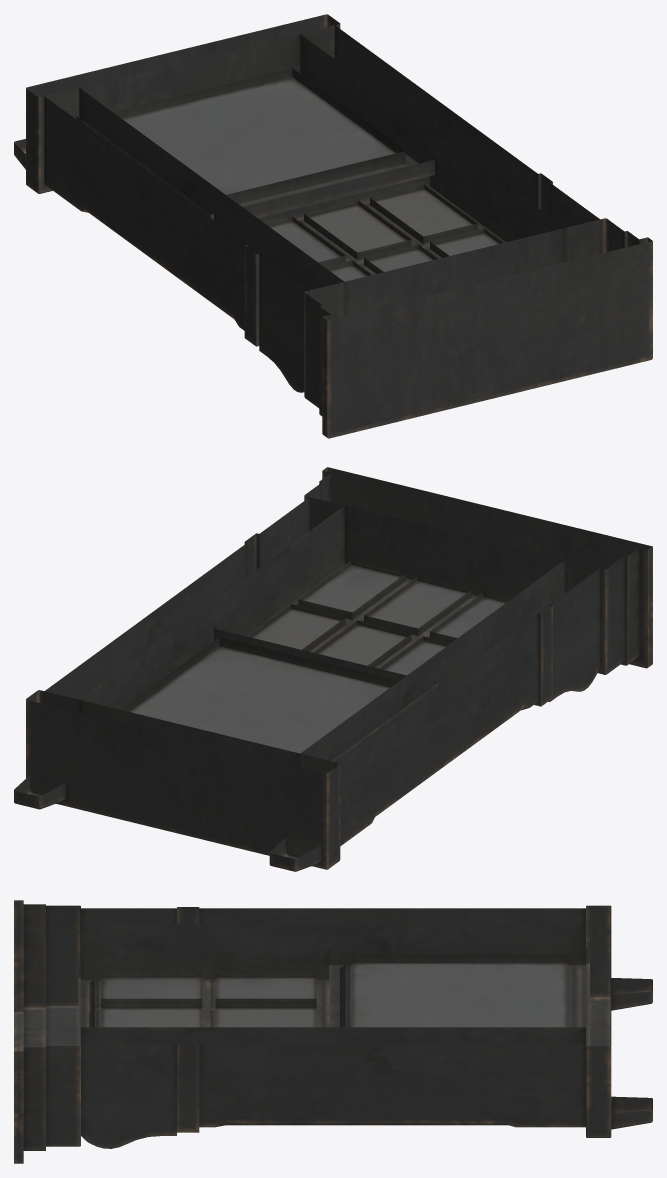
The model's file is window_centered_small_02.gltf.
3 views of the same model, one above another, from view 1: azimuth 30°, elevation 25°; view 2: azimuth 150°, elevation 25°; view 3: azimuth 270°, elevation 25° (orthographic). The views are drawn at different scales.
Visible parts, largest first — view 1: window_centered_small_02; view 2: window_centered_small_02; view 3: window_centered_small_02.
Boxes of the visible parts, <box> form: window_centered_small_02: <box>14,14,652,438</box>; window_centered_small_02: <box>14,467,652,871</box>; window_centered_small_02: <box>14,900,652,1163</box>.
Bounding box in the file's own units: 1.12 × 0.39 × 2.
2 materials, 2 textured.
